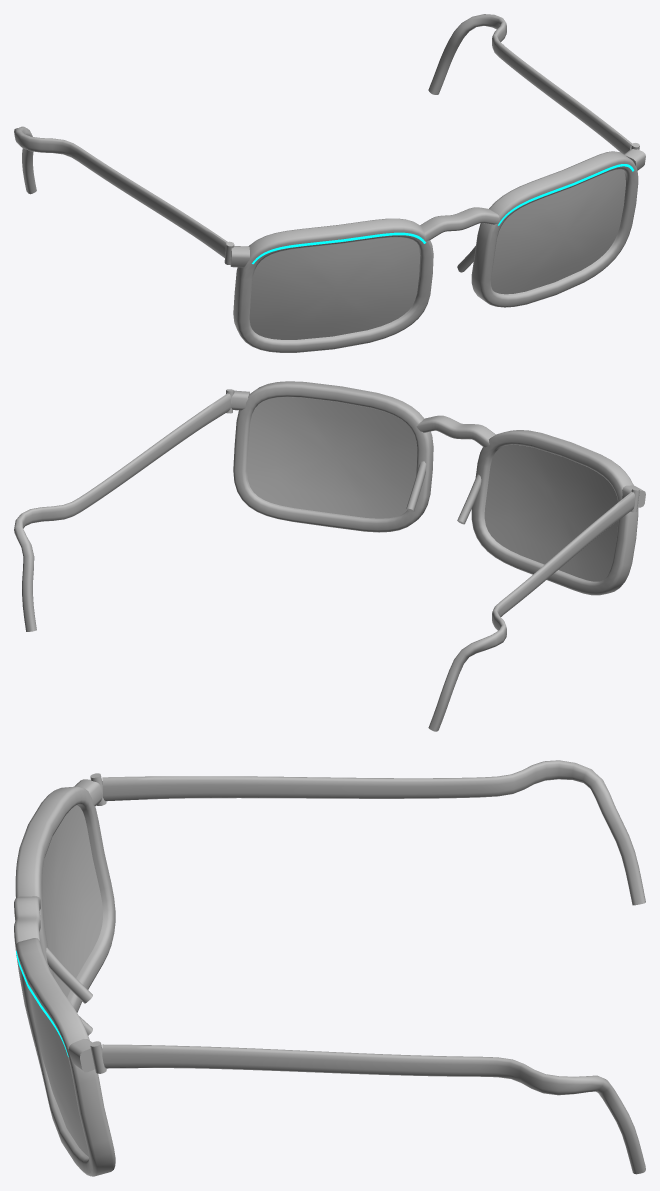
Rendered from kael_tactical_goggles.fbx.
The picture shows the model from 3 angles, top to bottom: view 1: azimuth 30°, elevation 25°; view 2: azimuth 150°, elevation 25°; view 3: azimuth 270°, elevation 25°; orthographic projection. The views are drawn at different scales.
Visible parts, largest first — view 1: kael_tactical_goggles; view 2: kael_tactical_goggles; view 3: kael_tactical_goggles.
Part boxes in pixels (x1,y1,x2,y2): kael_tactical_goggles: (14, 14, 645, 352); kael_tactical_goggles: (14, 381, 645, 731); kael_tactical_goggles: (14, 760, 645, 1176).
Size of the model in its own units: 0.1751 by 0.0449 by 0.1463.
